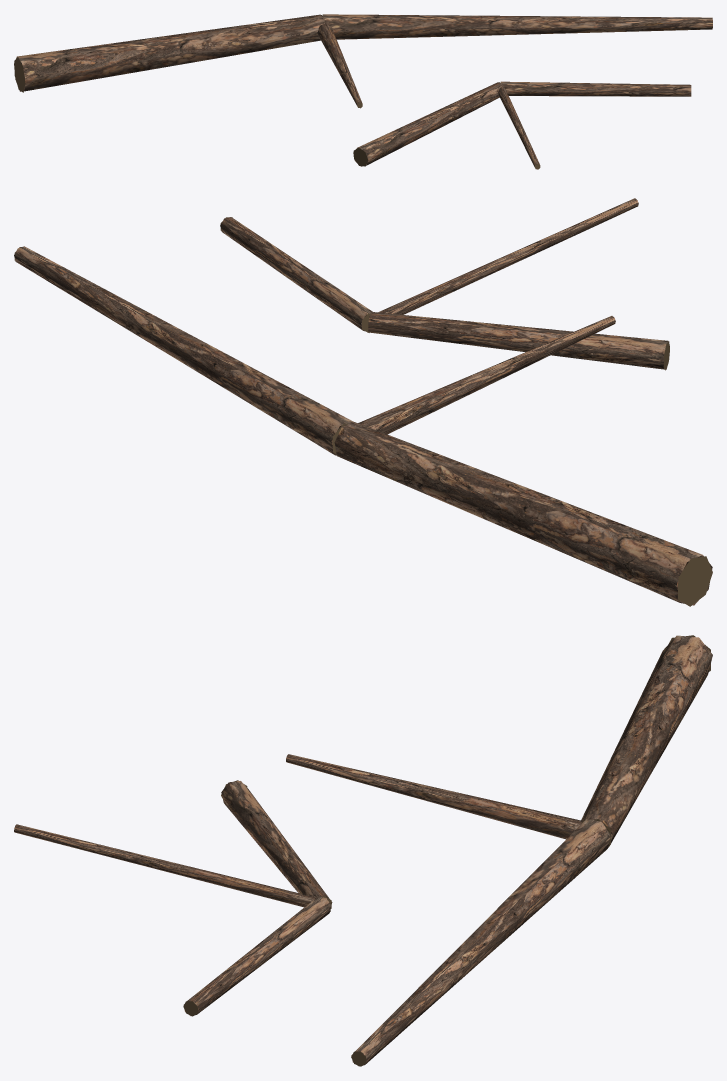
File: broken_ground_sticks.gltf
3 views of the same model, one above another, from view 1: azimuth 30°, elevation 25°; view 2: azimuth 150°, elevation 25°; view 3: azimuth 270°, elevation 25° (orthographic). The views are drawn at different scales.
Visible parts, largest first — view 1: broken_ground_sticks; view 2: broken_ground_sticks; view 3: broken_ground_sticks.
Part boxes in pixels (x1,y1,x2,y2): broken_ground_sticks: (14,14,712,169); broken_ground_sticks: (14,198,712,606); broken_ground_sticks: (14,635,712,1066).
Size of the model in its own units: 0.6463 by 0.0489 by 0.4782.
Materials: 2 (1 with a texture image).
